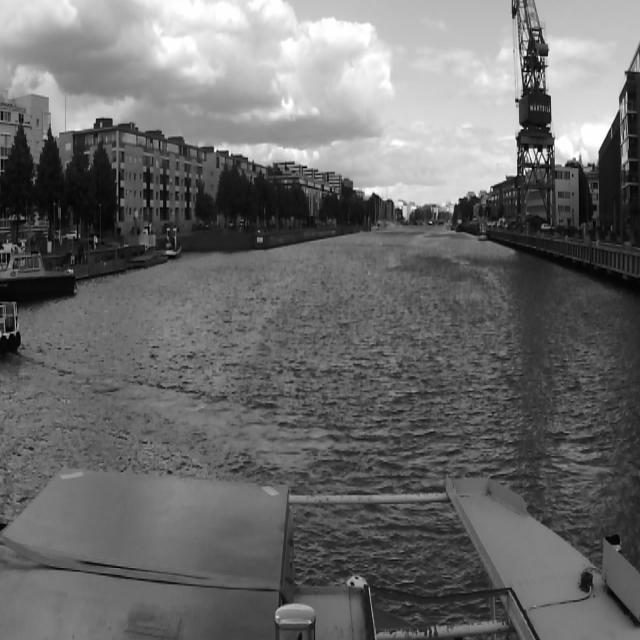ship: (2, 258, 76, 298)
